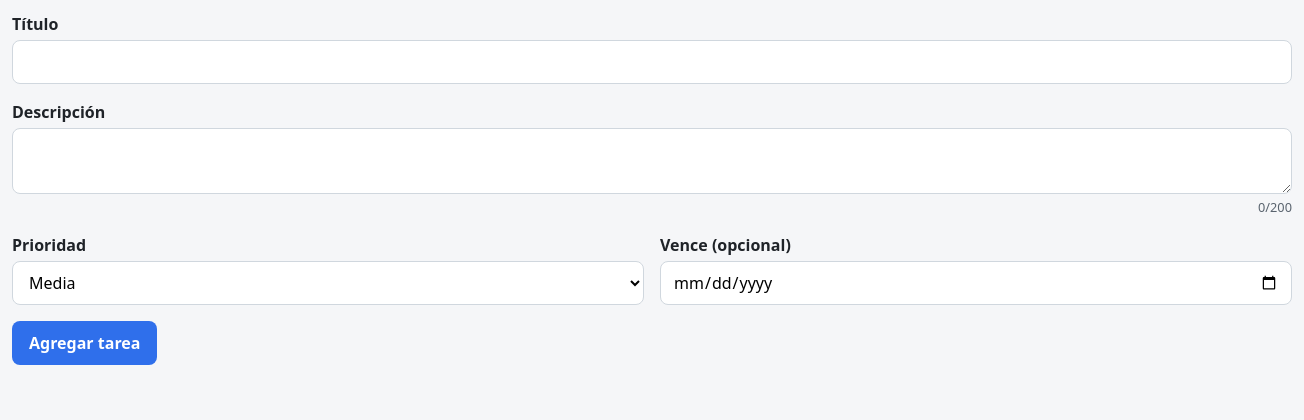
Scenario: <TodoForm /> › muestra un error si falla el guardado y conserva lo escrito
Type "Comprar mate" into the field labelled "Título" at (652, 62), box [12,40,1292,84]
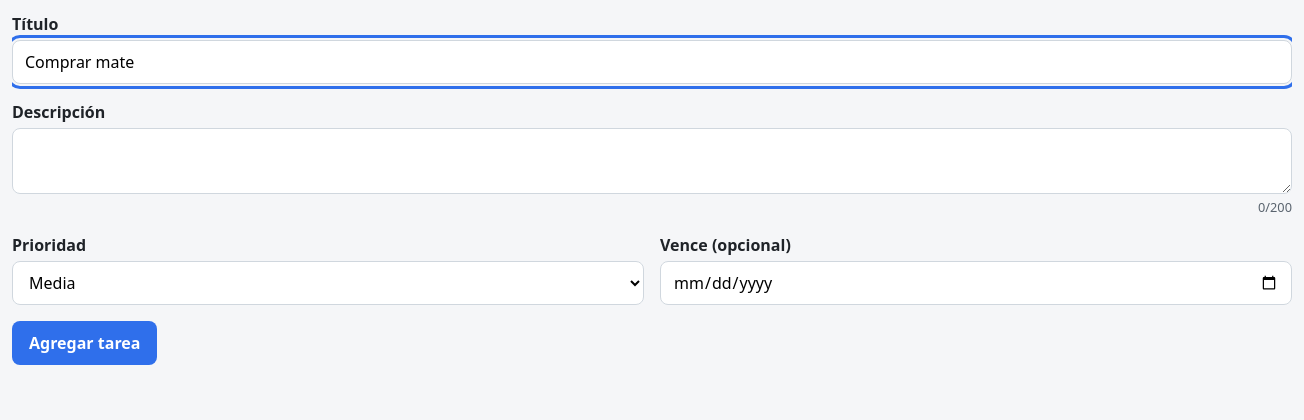
Click the button "Agregar tarea" at (85, 343), box [12,321,158,365]
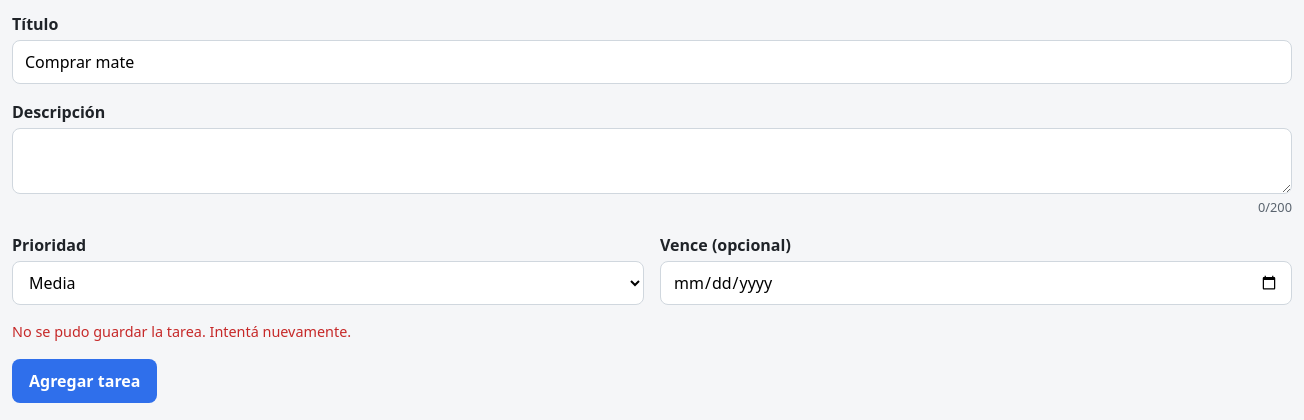
Check: the message shows "No se pudo guardar la tarea", box [12,322,351,341]
